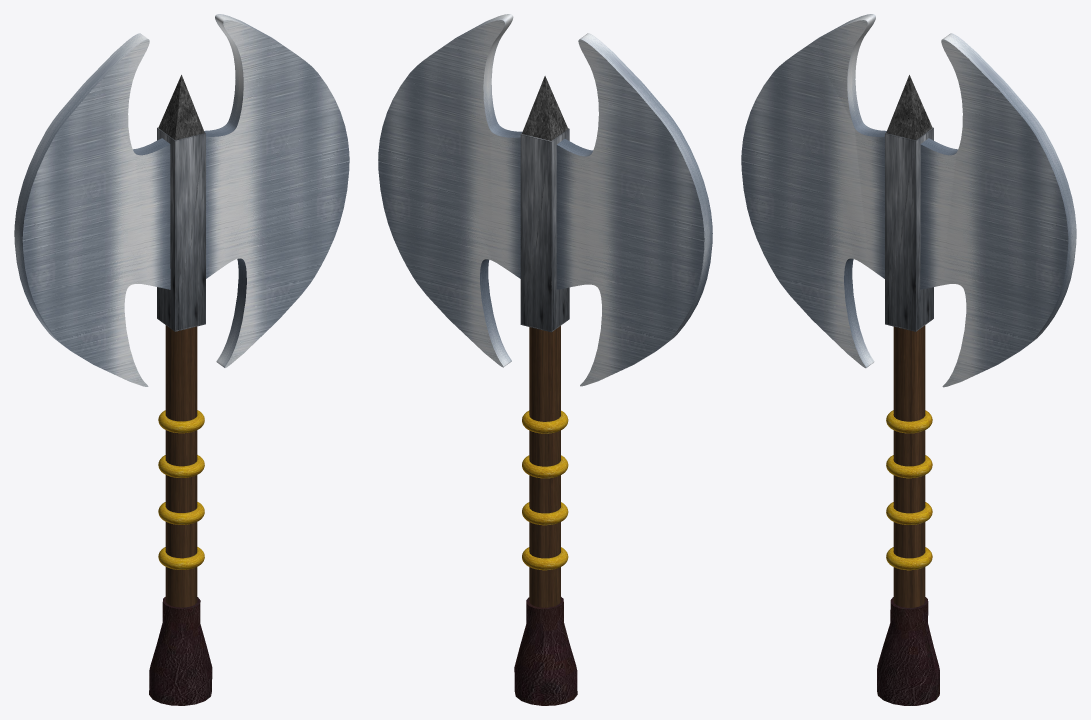
Rendered from axe.fbx.
3 views of the same model, side by side, from view 1: azimuth 30°, elevation 25°; view 2: azimuth 150°, elevation 25°; view 3: azimuth 330°, elevation 25° (orthographic).
Parts seen in each view (by area): view 1: Extrude, Cylinder_2, Cube, Cylinder, Pyramid, Torus_3, Torus_1, Torus_2, Torus; view 2: Extrude, Cube, Cylinder_2, Cylinder, Pyramid, Torus_2, Torus_1, Torus, Torus_3; view 3: Extrude, Cylinder_2, Cube, Cylinder, Pyramid, Torus_3, Torus_2, Torus, Torus_1.
Part boxes in pixels (bbox=[...]): Extrude: bbox=[14, 14, 349, 386]; Cylinder_2: bbox=[165, 325, 197, 607]; Cube: bbox=[157, 127, 205, 331]; Cylinder: bbox=[149, 597, 212, 705]; Pyramid: bbox=[158, 75, 204, 140]; Torus_3: bbox=[158, 410, 204, 433]; Torus_1: bbox=[158, 502, 204, 524]; Torus_2: bbox=[158, 455, 204, 477]; Torus: bbox=[158, 547, 204, 569]; Extrude: bbox=[378, 14, 712, 386]; Cube: bbox=[520, 128, 569, 332]; Cylinder_2: bbox=[529, 326, 560, 607]; Cylinder: bbox=[514, 597, 577, 705]; Pyramid: bbox=[522, 76, 568, 140]; Torus_2: bbox=[522, 455, 568, 478]; Torus_1: bbox=[522, 502, 568, 525]; Torus: bbox=[522, 547, 568, 570]; Torus_3: bbox=[522, 410, 568, 433]; Extrude: bbox=[741, 14, 1076, 387]; Cylinder_2: bbox=[893, 325, 925, 607]; Cube: bbox=[885, 127, 933, 331]; Cylinder: bbox=[877, 597, 939, 705]; Pyramid: bbox=[886, 75, 932, 140]; Torus_3: bbox=[886, 410, 932, 433]; Torus_2: bbox=[886, 455, 932, 478]; Torus: bbox=[886, 547, 932, 570]; Torus_1: bbox=[886, 502, 932, 524].
Size of the model in its own units: 227 by 442 by 36.71.
Materials: 6 (6 with a texture image).
